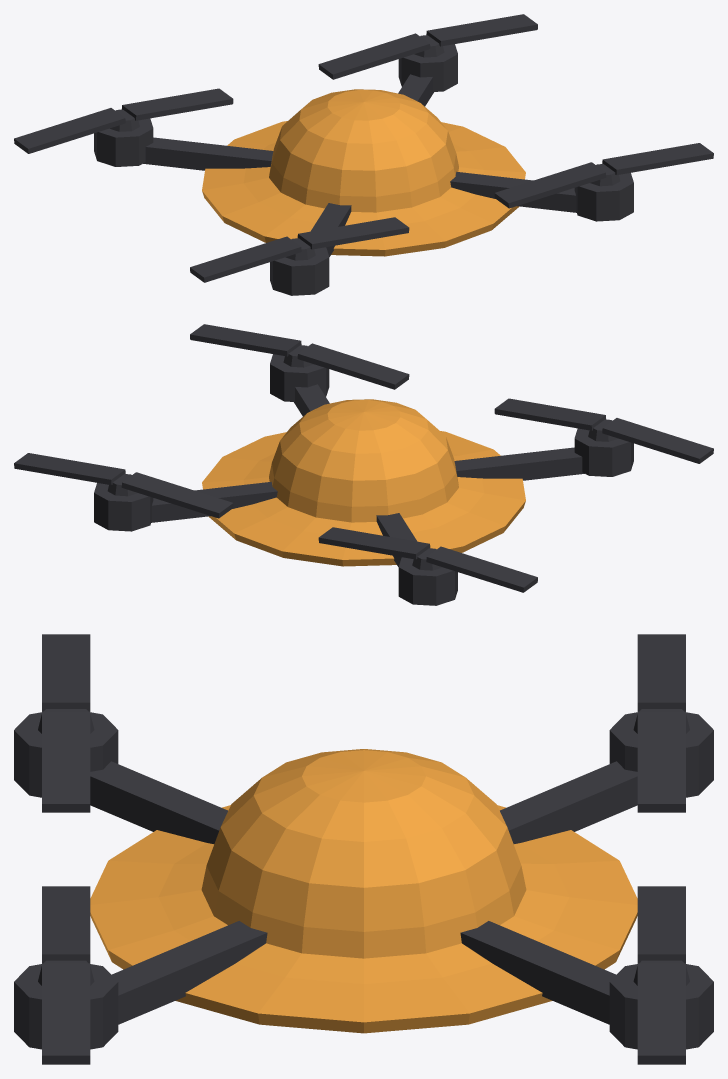
File: drone.glb
3 renders of one model, top to bottom at view 1: azimuth 30°, elevation 25°; view 2: azimuth 150°, elevation 25°; view 3: azimuth 270°, elevation 25°, orthographic. The views are drawn at different scales.
Visible parts, largest first — view 1: body, frame, rotor_1, rotor_2, rotor_0, rotor_3; view 2: body, frame, rotor_1, rotor_2, rotor_0, rotor_3; view 3: body, frame, rotor_0, rotor_3, rotor_1, rotor_2.
Part boxes in pixels (left/top/right/bottom): body: left=202, top=89, right=525, bottom=256; frame: left=94, top=44, right=633, bottom=295; rotor_1: left=14, top=88, right=233, bottom=153; rotor_2: left=190, top=217, right=409, bottom=282; rotor_0: left=318, top=14, right=537, bottom=79; rotor_3: left=494, top=143, right=713, bottom=208; body: left=202, top=399, right=525, bottom=566; frame: left=94, top=354, right=633, bottom=605; rotor_1: left=318, top=527, right=537, bottom=592; rotor_2: left=494, top=398, right=713, bottom=463; rotor_0: left=14, top=453, right=233, bottom=518; rotor_3: left=190, top=324, right=409, bottom=389; body: left=90, top=749, right=637, bottom=1033; frame: left=14, top=712, right=713, bottom=1049; rotor_0: left=633, top=886, right=689, bottom=1064; rotor_3: left=38, top=886, right=94, bottom=1064; rotor_1: left=633, top=634, right=689, bottom=812; rotor_2: left=38, top=634, right=94, bottom=812.
Bounding box in the file's own units: 0.9942 × 0.234 × 0.698.
